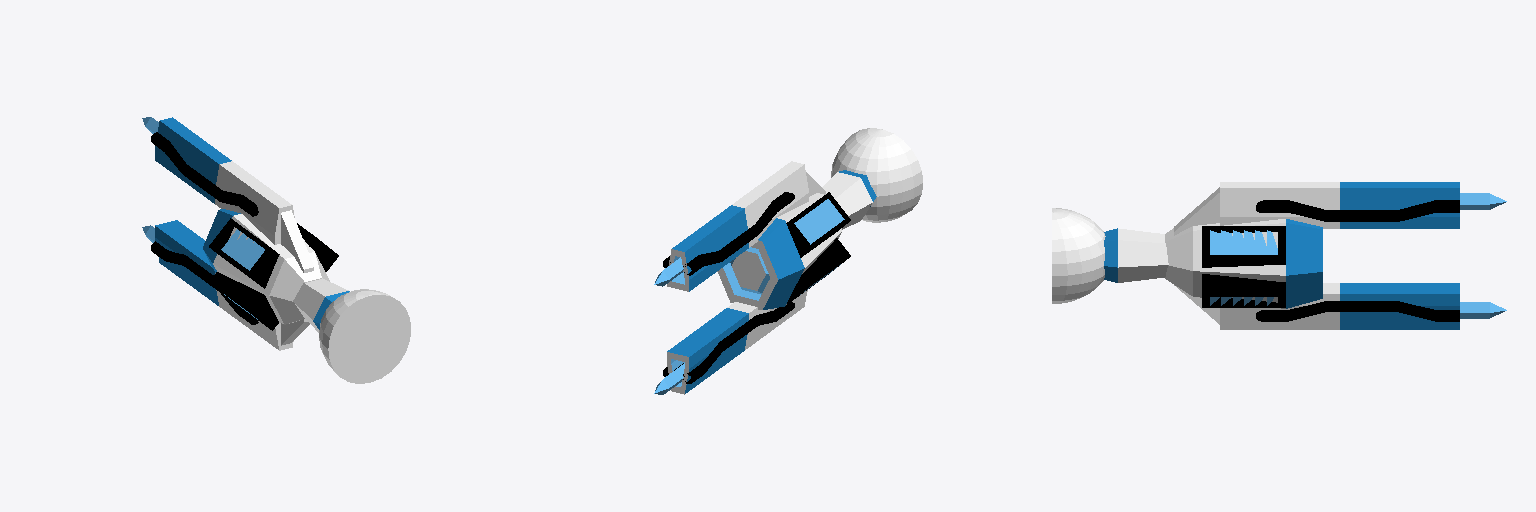
The model's file is miningTool.obj.
3 views of the same model, side by side, from view 1: azimuth 30°, elevation 25°; view 2: azimuth 150°, elevation 25°; view 3: azimuth 270°, elevation 25° (orthographic).
Size of the model in its own units: 0.8568 by 1.31 by 3.8.